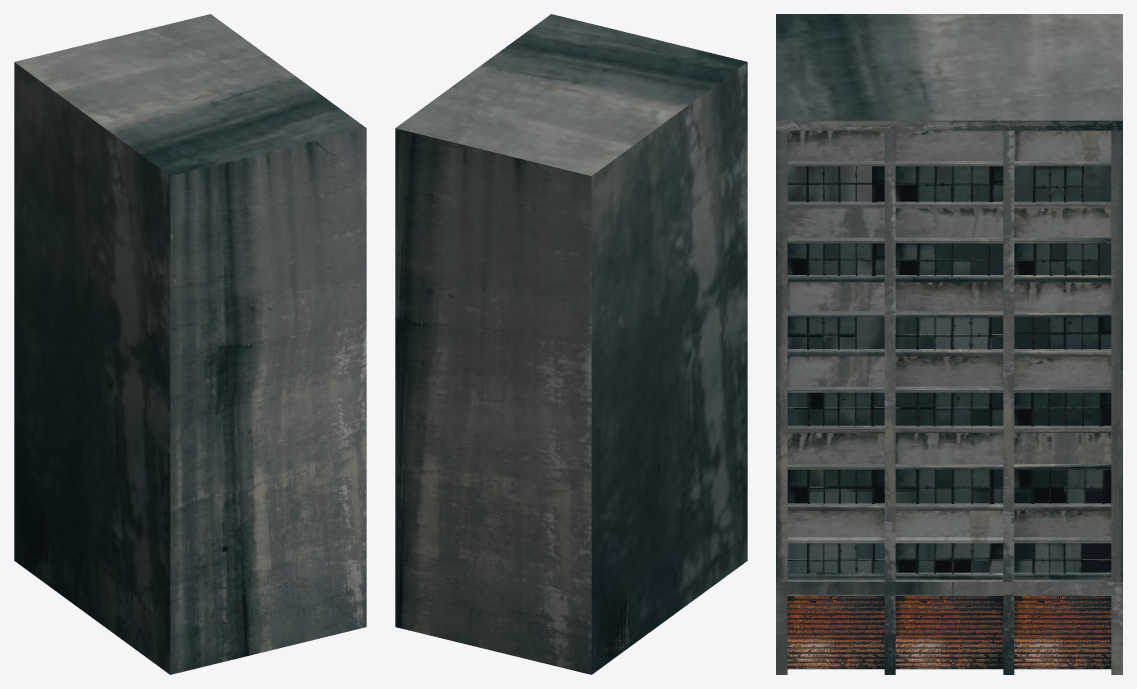
The model's file is tower.glb.
3 renders of one model, left to right at view 1: azimuth 30°, elevation 25°; view 2: azimuth 150°, elevation 25°; view 3: azimuth 270°, elevation 25°, orthographic. The views are drawn at different scales.
Visible parts, largest first — view 1: Cube; view 2: Cube; view 3: Cube, 2_Door1_0, 1_Door1_0, 3_Door1_0.
Boxes of the visible parts, x1=… form: Cube: x1=14, y1=14, x2=366, y2=674; Cube: x1=395, y1=14, x2=747, y2=674; Cube: x1=776, y1=14, x2=1122, y2=674; 2_Door1_0: x1=895, y1=596, x2=1003, y2=668; 1_Door1_0: x1=787, y1=596, x2=884, y2=668; 3_Door1_0: x1=1014, y1=596, x2=1111, y2=668.
Size of the model in its own units: 3.49 by 8.46 by 4.8.
2 materials, 2 textured.
